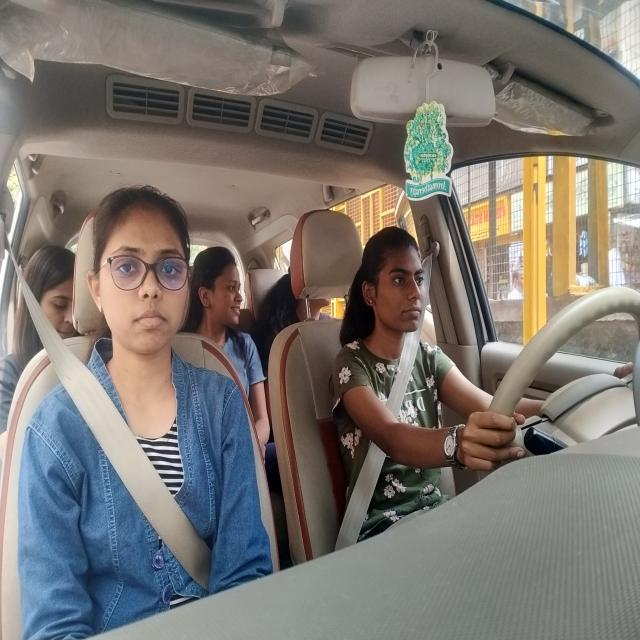person: (88, 182, 192, 376), (357, 224, 436, 356), (25, 242, 75, 347), (194, 243, 244, 339)
